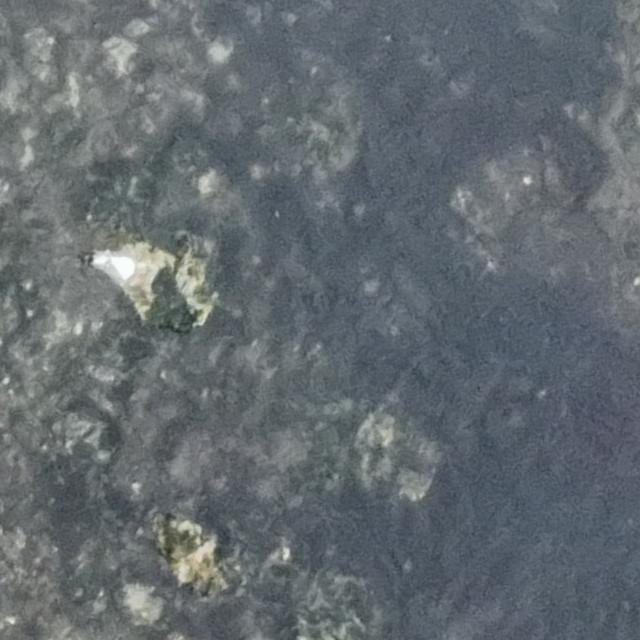umineko: (84, 252, 137, 278)
